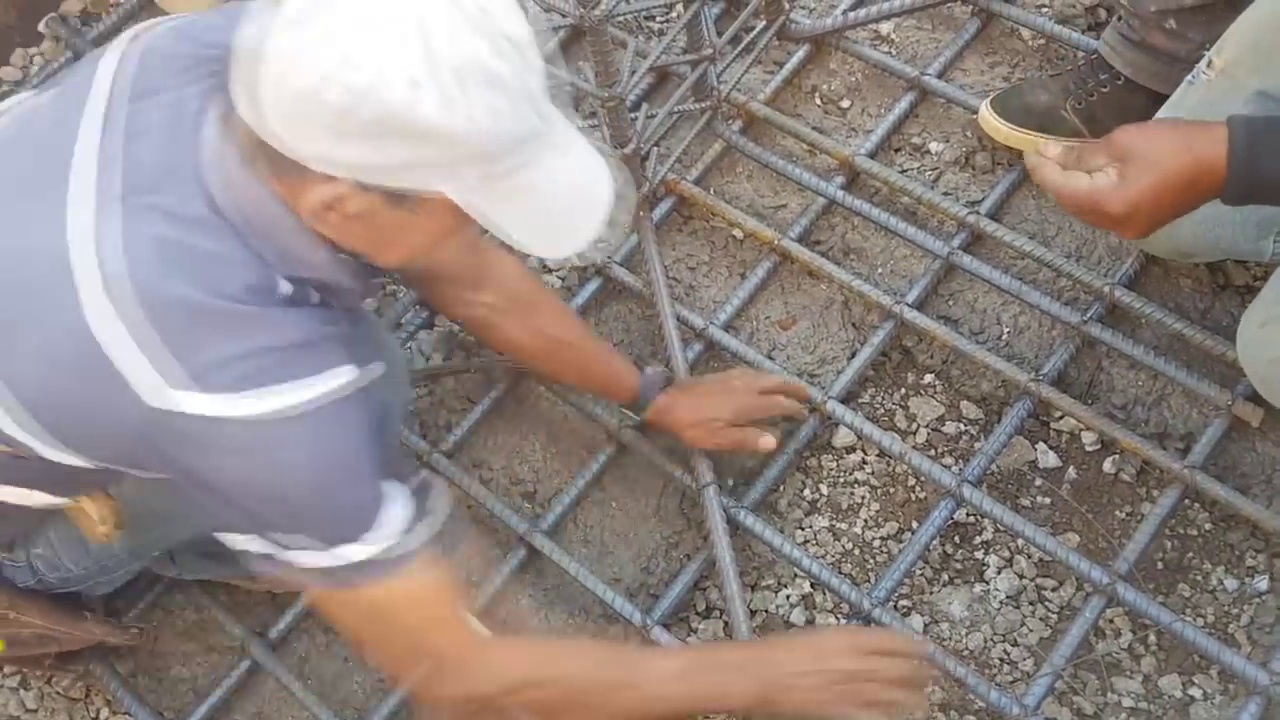helmet-off: (200, 0, 618, 281)
person: (2, 0, 936, 719), (969, 0, 1279, 417)
